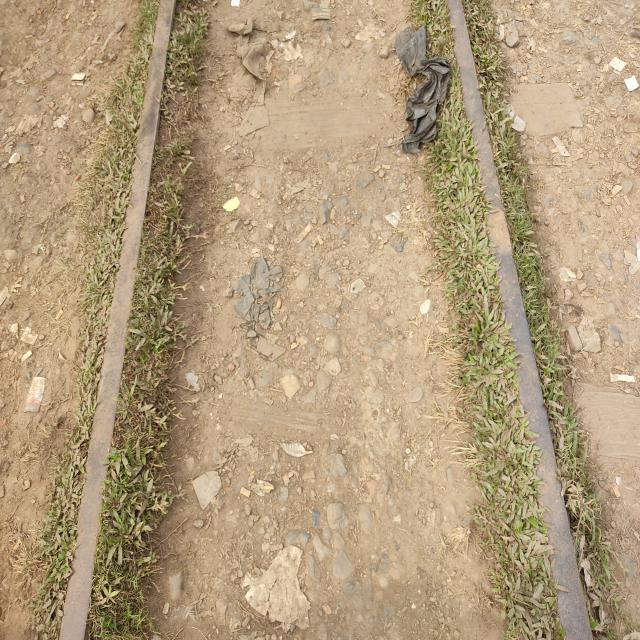non-defective: (73, 143, 191, 386)
